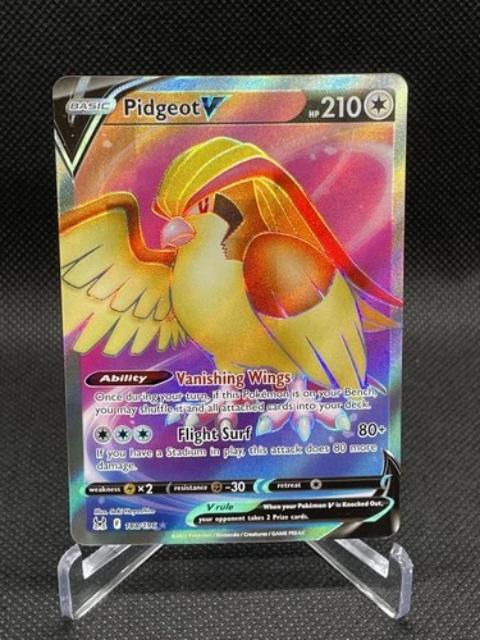Card: (47, 67, 412, 562)
Name: (113, 90, 241, 125)
